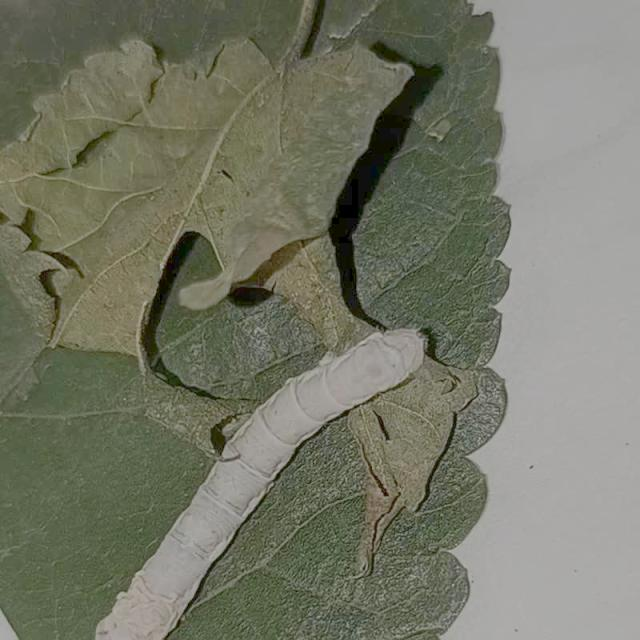Healthy: (80, 282, 464, 640)
